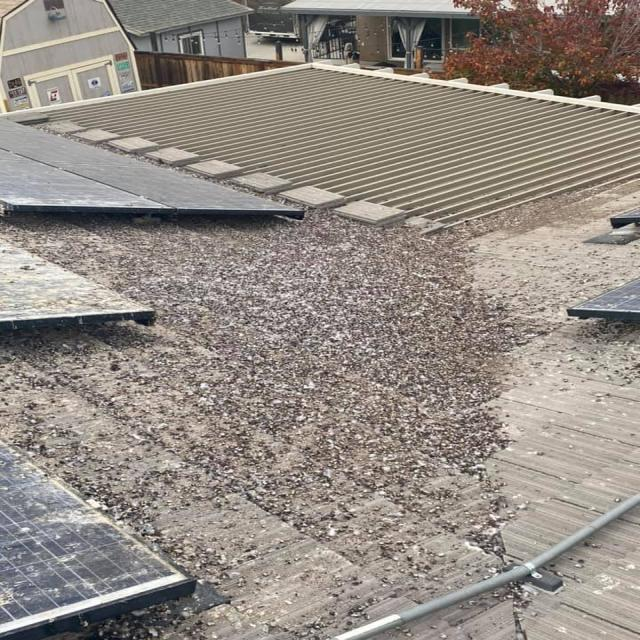dust-solar-panel: (0, 439, 185, 640), (0, 116, 302, 213), (0, 238, 148, 327), (568, 274, 640, 313)
